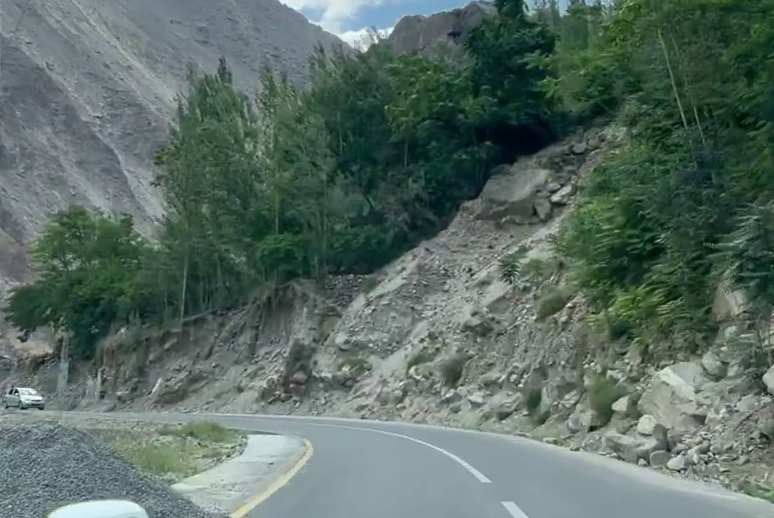right: (170, 362, 696, 494)
